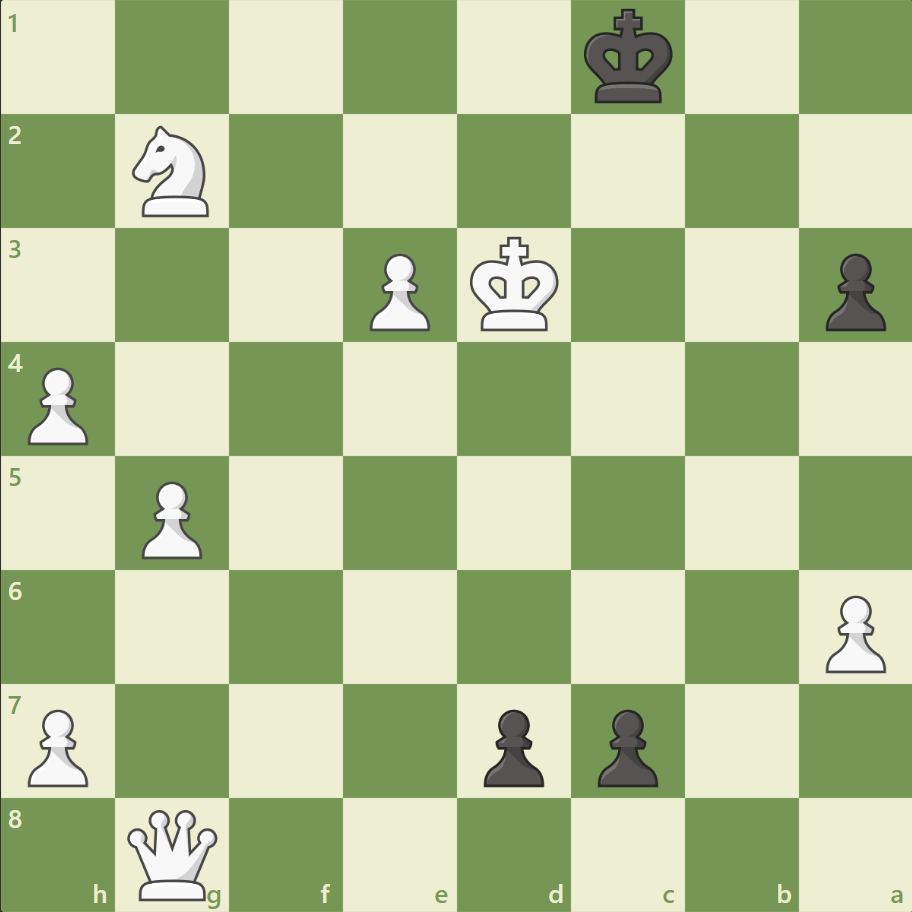K: (465, 231, 565, 339)
N: (124, 121, 222, 223)
P: (20, 700, 95, 791), (133, 473, 208, 564), (20, 359, 95, 450), (815, 586, 889, 677), (361, 246, 435, 337)
Q: (124, 804, 223, 903)
k: (579, 4, 679, 112)
p: (474, 700, 549, 791), (588, 700, 662, 791), (815, 246, 889, 337)
